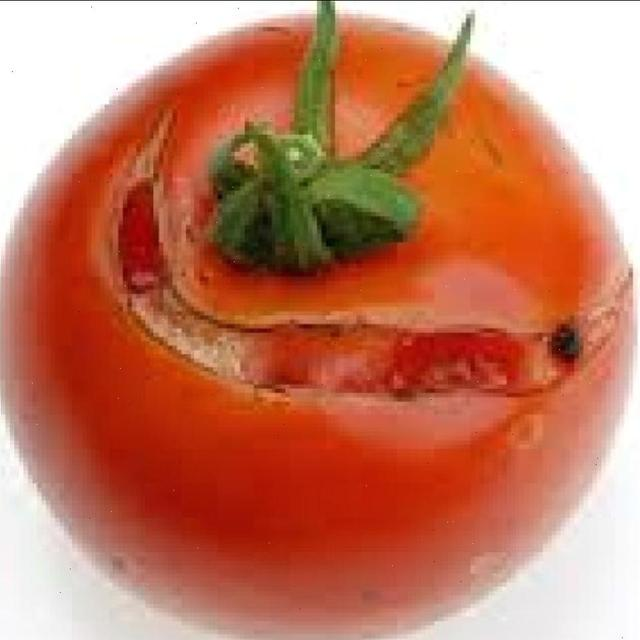Cracking Fruit: (48, 63, 418, 284)
